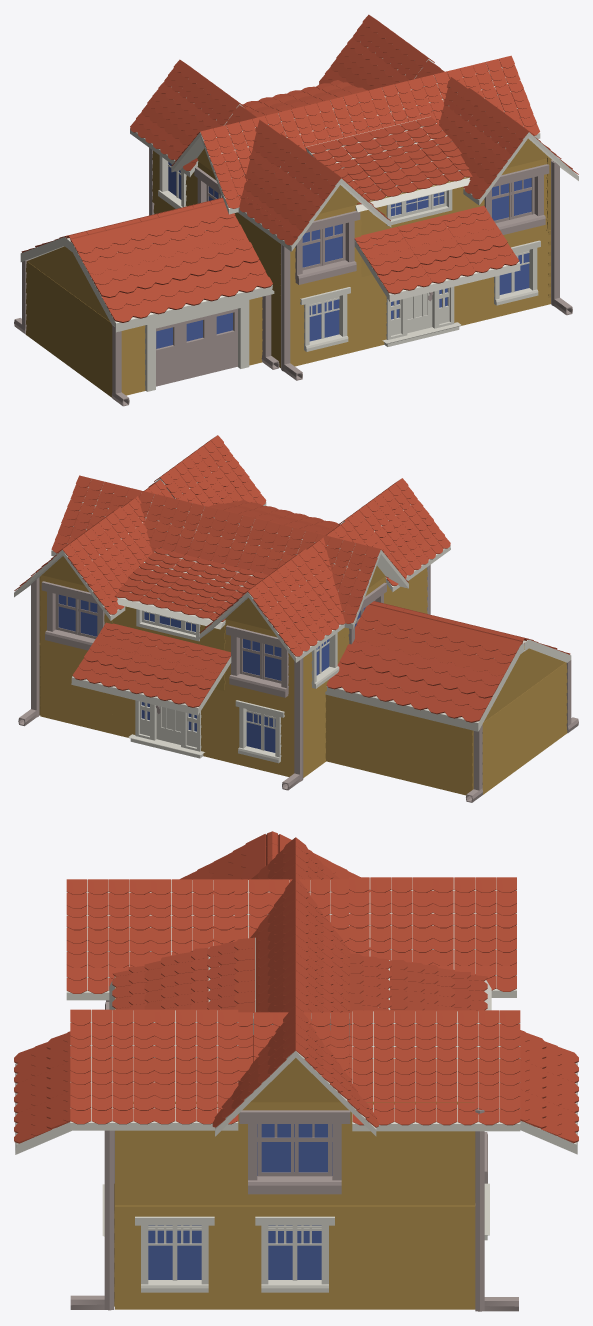
File: House_04.obj
The picture shows the model from 3 angles, top to bottom: view 1: azimuth 30°, elevation 25°; view 2: azimuth 150°, elevation 25°; view 3: azimuth 270°, elevation 25°; orthographic projection. The views are drawn at different scales.
Parts seen in each view (by area): view 1: House_04_Cube.019; view 2: House_04_Cube.019; view 3: House_04_Cube.019.
Part boxes in pixels (x1,y1,x2,y2): House_04_Cube.019: [14, 14, 578, 406]; House_04_Cube.019: [14, 435, 578, 802]; House_04_Cube.019: [14, 831, 578, 1311].
Bounding box in the file's own units: 21.36 × 8.8 × 16.48.
